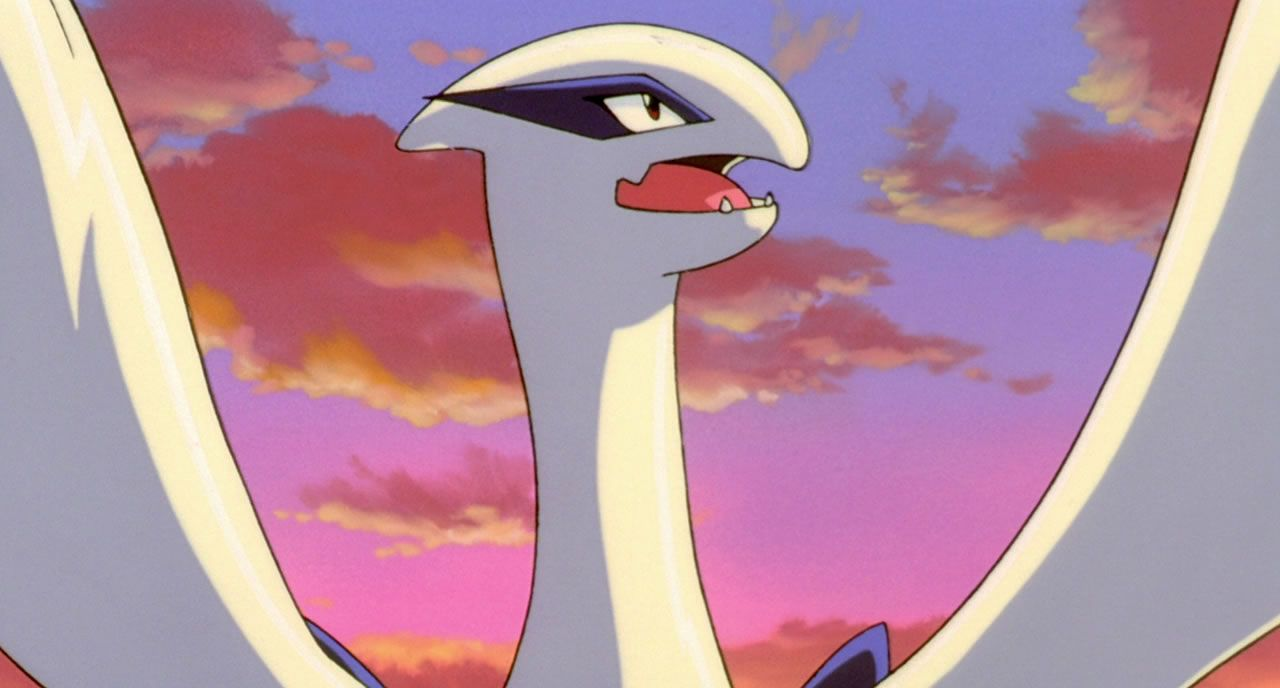lugia: (393, 21, 813, 371)
